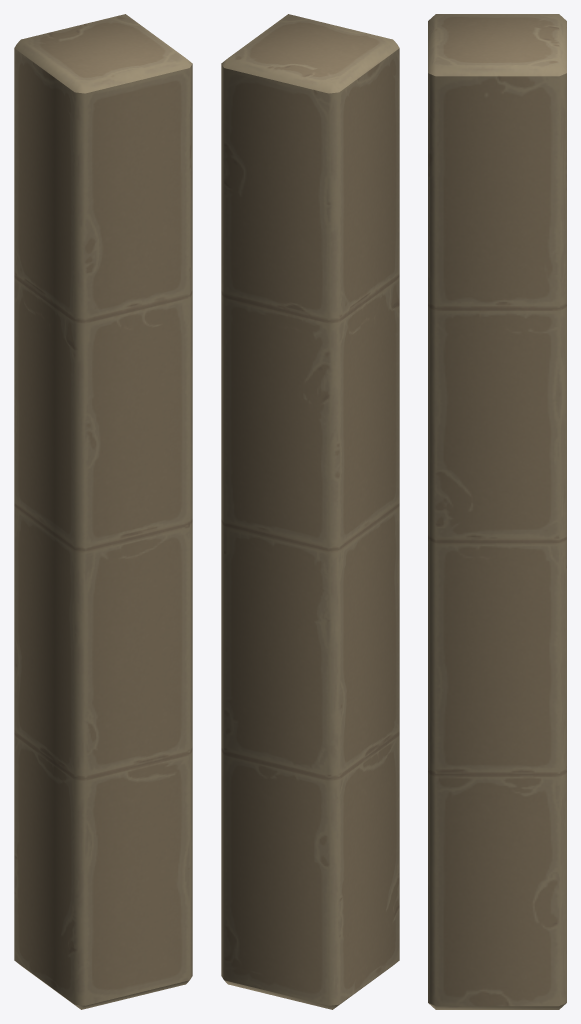
File: ARC0510065.fbx
3 views of the same model, side by side, from view 1: azimuth 30°, elevation 25°; view 2: azimuth 150°, elevation 25°; view 3: azimuth 270°, elevation 25° (orthographic).
Visible parts, largest first — view 1: smARC0510065; view 2: smARC0510065; view 3: smARC0510065.
Boxes of the visible parts, x1,y1,x2,y2 form: smARC0510065: (14,14,192,1009); smARC0510065: (221,14,399,1009); smARC0510065: (428,14,566,1009).
Size of the model in its own units: 40 by 300 by 40.
Materials: 1 (1 with a texture image).
